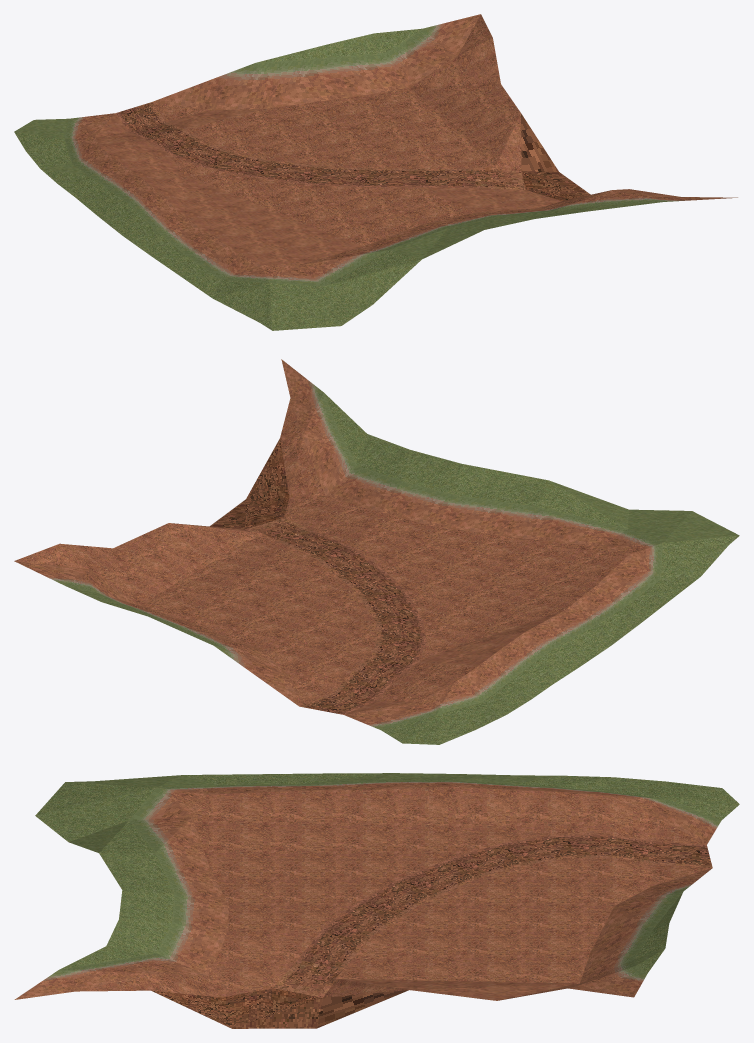
Rendered from lod_se_bit_19.obj.
The picture shows the model from 3 angles, top to bottom: view 1: azimuth 30°, elevation 25°; view 2: azimuth 150°, elevation 25°; view 3: azimuth 270°, elevation 25°; orthographic projection. The views are drawn at different scales.
Parts seen in each view (by area): view 1: lod_se_bit_19; view 2: lod_se_bit_19; view 3: lod_se_bit_19.
Part boxes in pixels (x1=…): lod_se_bit_19: x1=14, y1=14, x2=737, y2=330; lod_se_bit_19: x1=14, y1=359, x2=739, y2=744; lod_se_bit_19: x1=14, y1=773, x2=739, y2=1028.
Bounding box in the file's own units: 212 × 22.37 × 236.
6 materials, 6 textured.
